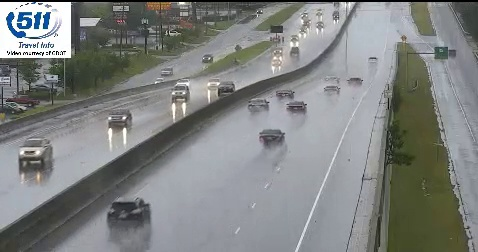car: (108, 197, 151, 231), (259, 129, 284, 147), (247, 98, 269, 114), (286, 101, 307, 113), (276, 89, 293, 100)
